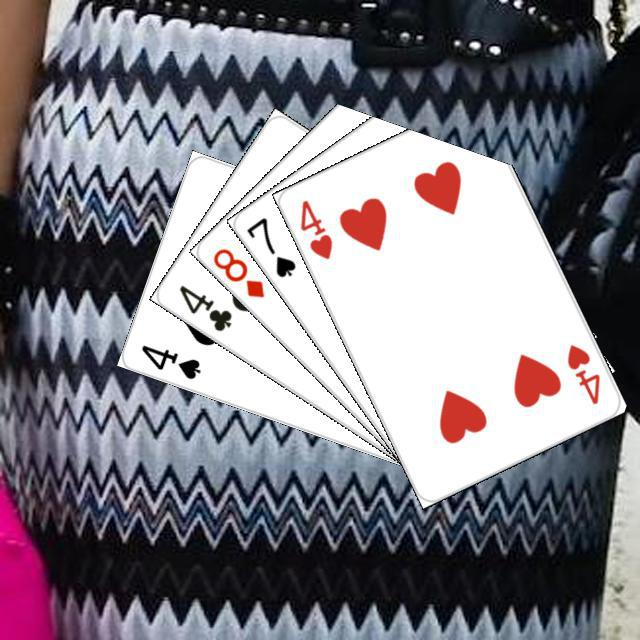4c: (174, 280, 234, 333)
4h: (561, 339, 602, 406), (295, 195, 334, 261)
4s: (136, 340, 203, 381)
7s: (241, 212, 298, 280)
8d: (208, 243, 267, 300)
